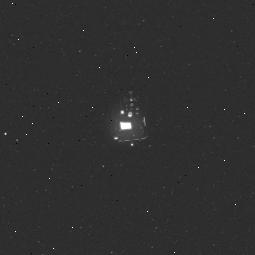proba_3_ocs: (105, 80, 161, 163)
